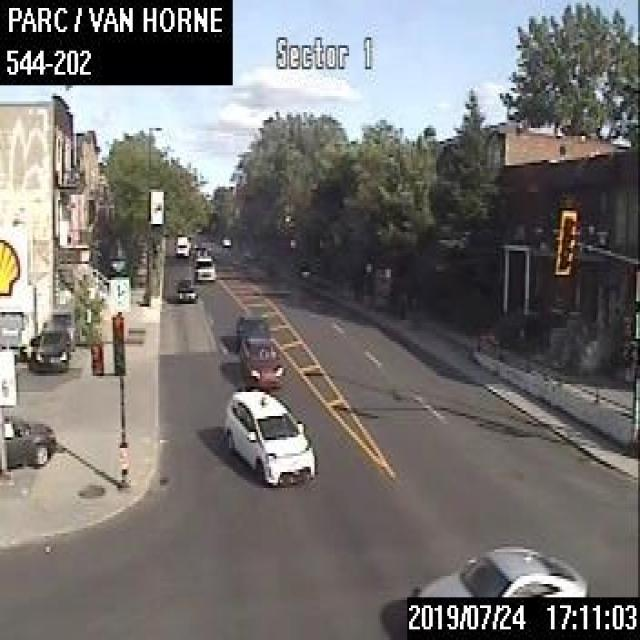vehicle: (413, 544, 588, 597), (222, 388, 312, 486), (3, 413, 55, 467), (240, 333, 284, 388), (30, 326, 70, 370), (43, 306, 75, 347), (235, 312, 269, 349), (192, 254, 214, 282), (173, 276, 196, 302), (173, 233, 190, 255), (219, 233, 230, 244)
